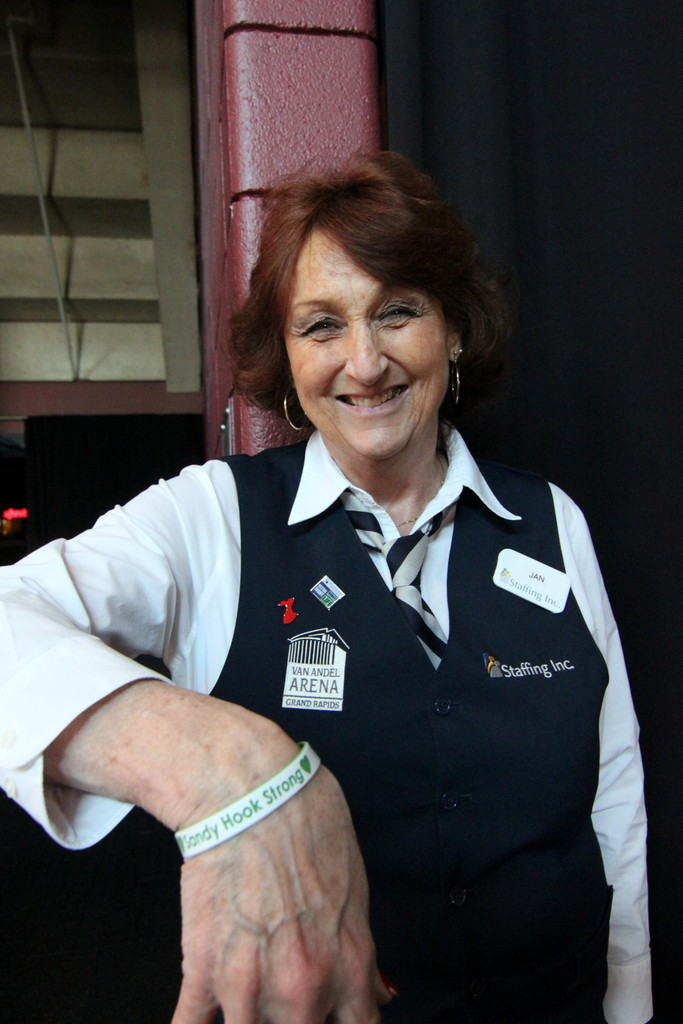Human_hand: (170, 723, 391, 1023)
